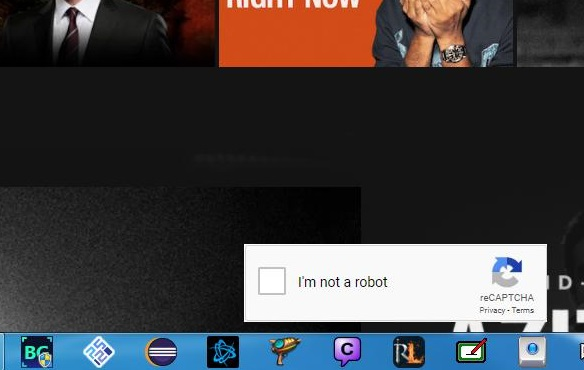captcha: (258, 267, 392, 295)
